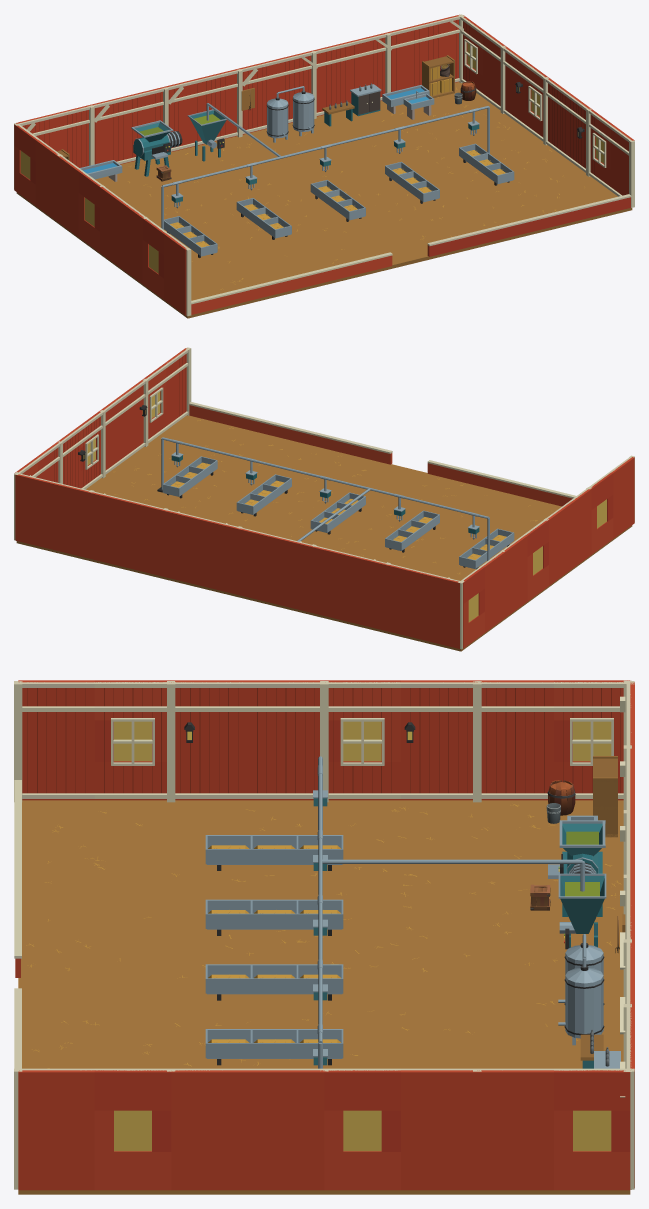
Rendered from BarnInterior_Lv4.fbx.
The picture shows the model from 3 angles, top to bottom: view 1: azimuth 30°, elevation 25°; view 2: azimuth 150°, elevation 25°; view 3: azimuth 270°, elevation 25°; orthographic projection. The views are drawn at different scales.
Parts seen in each view (by area): view 1: Lv4_Floor.001, Lv4_FrontCutaway.001, N01_Wall_2m.079, N01_Wall_2m.073, N01_Wall_2m.081, N01_Wall_2m.080, N01_Wall_2m.075, N01_Wall_2m.072, N01_Wall_2m.077, N01_Wall_2m.076, N03_LargeMotor.003, N01_Wall_2m.083 (+32 smaller); view 2: Lv4_Floor.001, Lv4_FrontCutaway.001, N01_Wall_2m.075, N01_Wall_2m.073, N01_Wall_2m.076, N01_Wall_2m.077, N01_Wall_2m.078, N01_Wall_2m.080, N01_Wall_2m.074, N01_Wall_2m.079, N01_Wall_2m.081, N01_Wall_2m.082 (+22 smaller); view 3: Lv4_Floor.001, N01_Wall_2m.090, N01_WindowWall_2m.022, N01_WindowWall_2m.023, N01_Wall_2m.088, N01_Wall_2m.092, N01_Wall_2m.089, N01_Wall_2m.091, N01_WindowWall_2m.024, N01_Wall_2m.083, N01_WindowWall_2m.019, N01_WindowWall_2m.020 (+22 smaller).
Part boxes in pixels (<box>): Lv4_Floor.001: <box>16,82,632,318</box>; Lv4_FrontCutaway.001: <box>191,194,631,314</box>; N01_Wall_2m.079: <box>312,41,350,116</box>; N01_Wall_2m.073: <box>90,96,128,164</box>; N01_Wall_2m.081: <box>386,23,425,91</box>; N01_Wall_2m.080: <box>349,32,386,103</box>; N01_Wall_2m.075: <box>164,78,202,151</box>; N01_Wall_2m.072: <box>53,105,89,167</box>; N01_Wall_2m.077: <box>238,60,276,134</box>; N01_Wall_2m.076: <box>201,69,237,144</box>; N03_LargeMotor.003: <box>131,120,182,176</box>; N01_Wall_2m.083: <box>164,233,188,315</box>; Lv4_Floor.001: <box>16,415,632,651</box>; Lv4_FrontCutaway.001: <box>189,402,575,506</box>; N01_Wall_2m.075: <box>274,536,313,612</box>; N01_Wall_2m.073: <box>348,554,387,630</box>; N01_Wall_2m.076: <box>237,528,276,603</box>; N01_Wall_2m.077: <box>200,518,238,594</box>; N01_Wall_2m.078: <box>163,509,202,585</box>; N01_Wall_2m.080: <box>89,491,128,567</box>; N01_Wall_2m.074: <box>311,546,350,621</box>; N01_Wall_2m.079: <box>126,500,164,576</box>; N01_Wall_2m.081: <box>52,482,89,558</box>; N01_Wall_2m.082: <box>15,473,54,549</box>; Lv4_Floor.001: <box>18,800,630,1194</box>; N01_Wall_2m.090: <box>247,1068,324,1190</box>; N01_WindowWall_2m.022: <box>94,1068,171,1190</box>; N01_WindowWall_2m.023: <box>324,1068,400,1190</box>; N01_Wall_2m.088: <box>18,1068,94,1190</box>; N01_Wall_2m.092: <box>477,1068,553,1190</box>; N01_Wall_2m.089: <box>171,1068,247,1190</box>; N01_Wall_2m.091: <box>401,1068,477,1190</box>; N01_WindowWall_2m.024: <box>554,1068,630,1190</box>; N01_Wall_2m.083: <box>18,680,94,800</box>; N01_WindowWall_2m.019: <box>94,680,171,800</box>; N01_WindowWall_2m.020: <box>324,680,400,800</box>.
Size of the model in its own units: 24.26 by 3.58 by 16.23.
